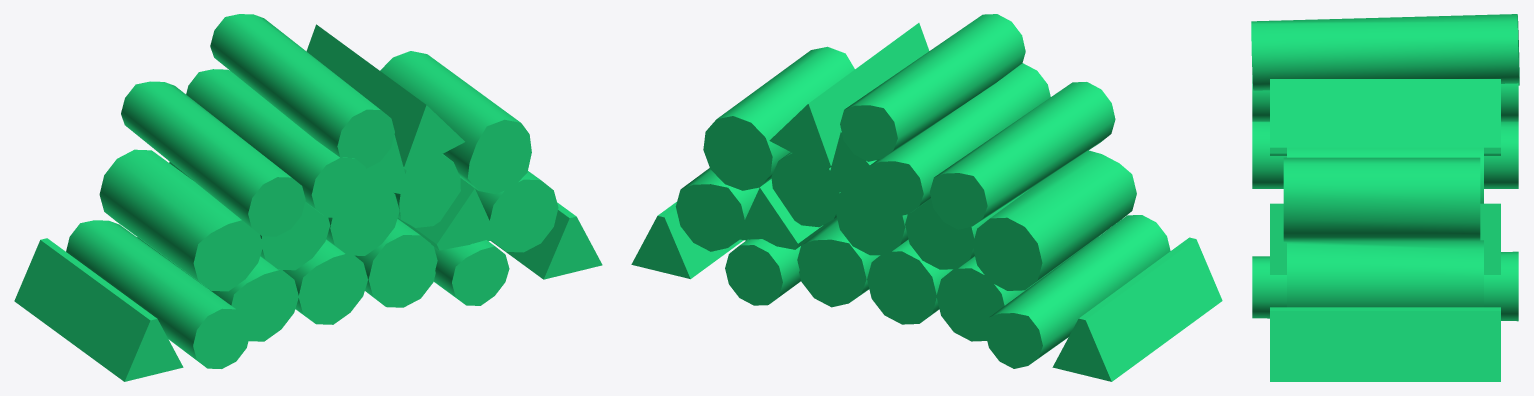
File: Wood_Pile_02_Lod0.fbx
The picture shows the model from 3 angles, left to right: view 1: azimuth 30°, elevation 25°; view 2: azimuth 150°, elevation 25°; view 3: azimuth 270°, elevation 25°; orthographic projection. The views are drawn at different scales.
Parts seen in each view (by area): view 1: Wood_Pile_02_Lod0; view 2: Wood_Pile_02_Lod0; view 3: Wood_Pile_02_Lod0.
Boxes of the visible parts, bbox=[...] form: Wood_Pile_02_Lod0: bbox=[14, 14, 602, 381]; Wood_Pile_02_Lod0: bbox=[631, 14, 1222, 381]; Wood_Pile_02_Lod0: bbox=[1251, 14, 1519, 381].
Size of the model in its own units: 147 by 66.74 by 68.14.
